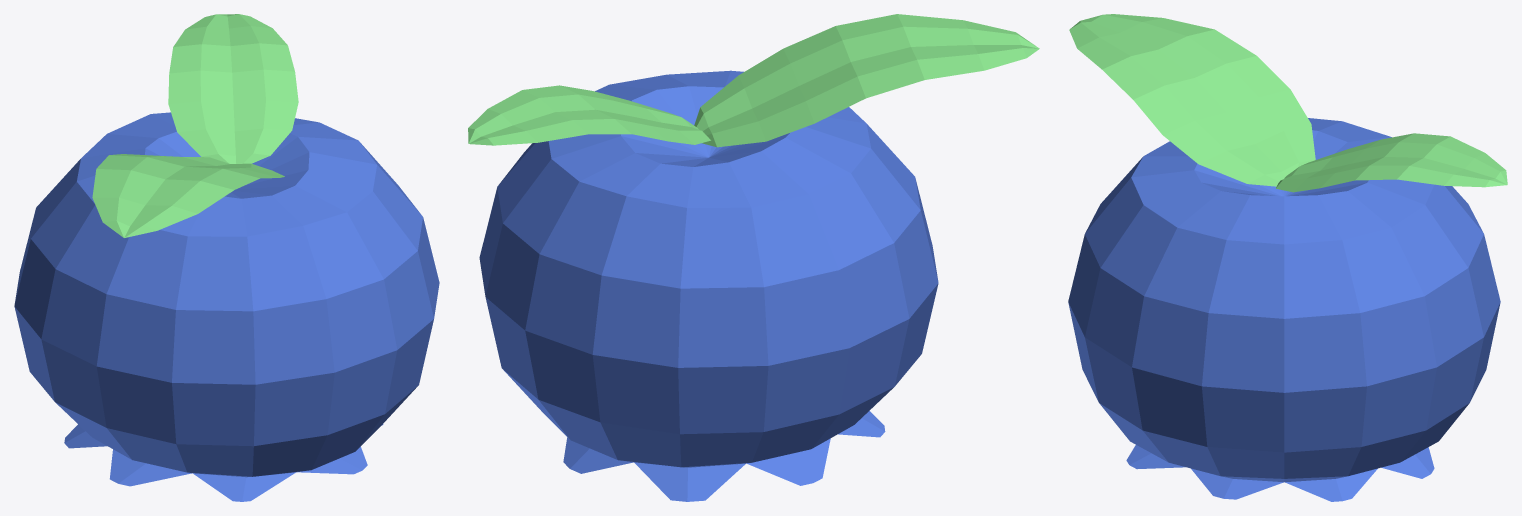
The model's file is Blueberry.fbx.
The picture shows the model from 3 angles, left to right: view 1: azimuth 30°, elevation 25°; view 2: azimuth 150°, elevation 25°; view 3: azimuth 270°, elevation 25°; orthographic projection. The views are drawn at different scales.
Visible parts, largest first — view 1: Blueberry, Circle, Circle.001; view 2: Blueberry, Circle.001, Circle; view 3: Blueberry, Circle.001, Circle.
Boxes of the visible parts, bbox=[...] form: Blueberry: bbox=[14, 112, 439, 501]; Circle: bbox=[168, 14, 298, 163]; Circle.001: bbox=[92, 154, 284, 237]; Blueberry: bbox=[479, 70, 938, 501]; Circle.001: bbox=[694, 14, 1039, 147]; Circle: bbox=[468, 85, 710, 145]; Blueberry: bbox=[1068, 118, 1500, 501]; Circle.001: bbox=[1069, 14, 1315, 186]; Circle: bbox=[1276, 133, 1507, 192].
Size of the model in its own units: 213 by 176 by 205.
